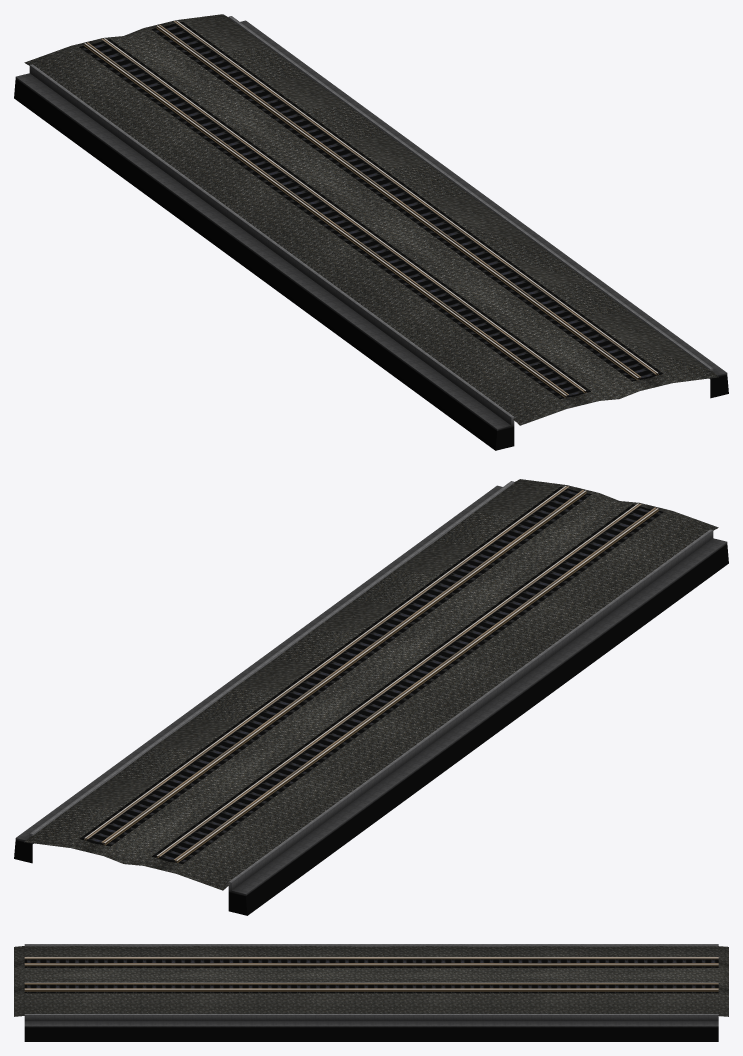
File: TOB_2RAIL_150.glb
The picture shows the model from 3 angles, top to bottom: view 1: azimuth 30°, elevation 25°; view 2: azimuth 150°, elevation 25°; view 3: azimuth 270°, elevation 25°; orthographic projection. The views are drawn at different scales.
Parts seen in each view (by area): view 1: LeftWall3, R000_RG_R3, R000_RG_L3; view 2: LeftWall3, R000_RG_R3, R000_RG_L3; view 3: LeftWall3, R000_RG_R3, R000_RG_L3.
Part boxes in pixels (box(x1,y1,x2,y2)): LeftWall3: box(14, 14, 728, 450); R000_RG_R3: box(86, 24, 640, 396); R000_RG_L3: box(101, 21, 655, 391); LeftWall3: box(14, 479, 728, 915); R000_RG_R3: box(101, 490, 656, 861); R000_RG_L3: box(86, 486, 641, 857); LeftWall3: box(14, 944, 728, 1041); R000_RG_R3: box(24, 957, 718, 984); R000_RG_L3: box(24, 963, 718, 989).
Size of the model in its own units: 42 by 6.55 by 155.
7 materials, 6 textured.
